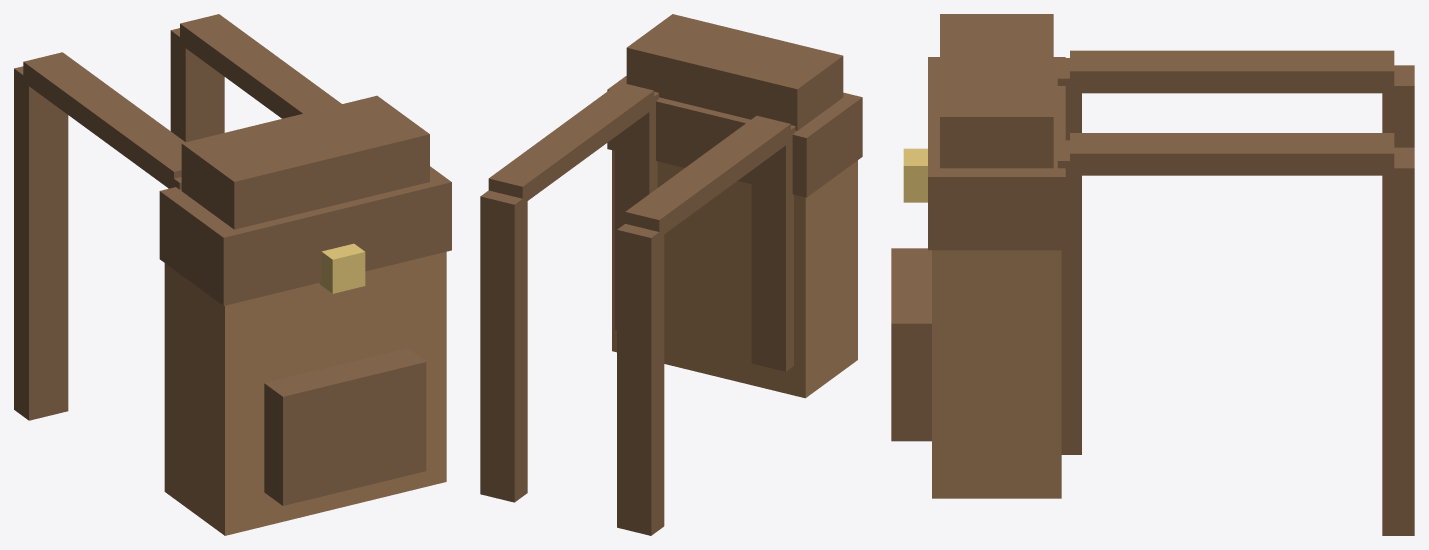
File: mochila_aventura.glb
3 renders of one model, left to right at view 1: azimuth 30°, elevation 25°; view 2: azimuth 150°, elevation 25°; view 3: azimuth 270°, elevation 25°, orthographic. The views are drawn at different scales.
Visible parts, largest first — view 1: mochila_aventura; view 2: mochila_aventura; view 3: mochila_aventura.
Boxes of the visible parts, box(x1,y1,x2,y2) form: mochila_aventura: box(14, 14, 451, 535); mochila_aventura: box(480, 14, 862, 535); mochila_aventura: box(891, 14, 1414, 535).
Size of the model in its own units: 0.35 by 0.57 by 0.645.
